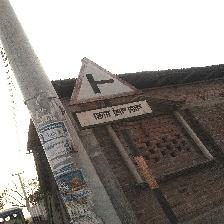Side-road-left: (68, 57, 153, 129)
